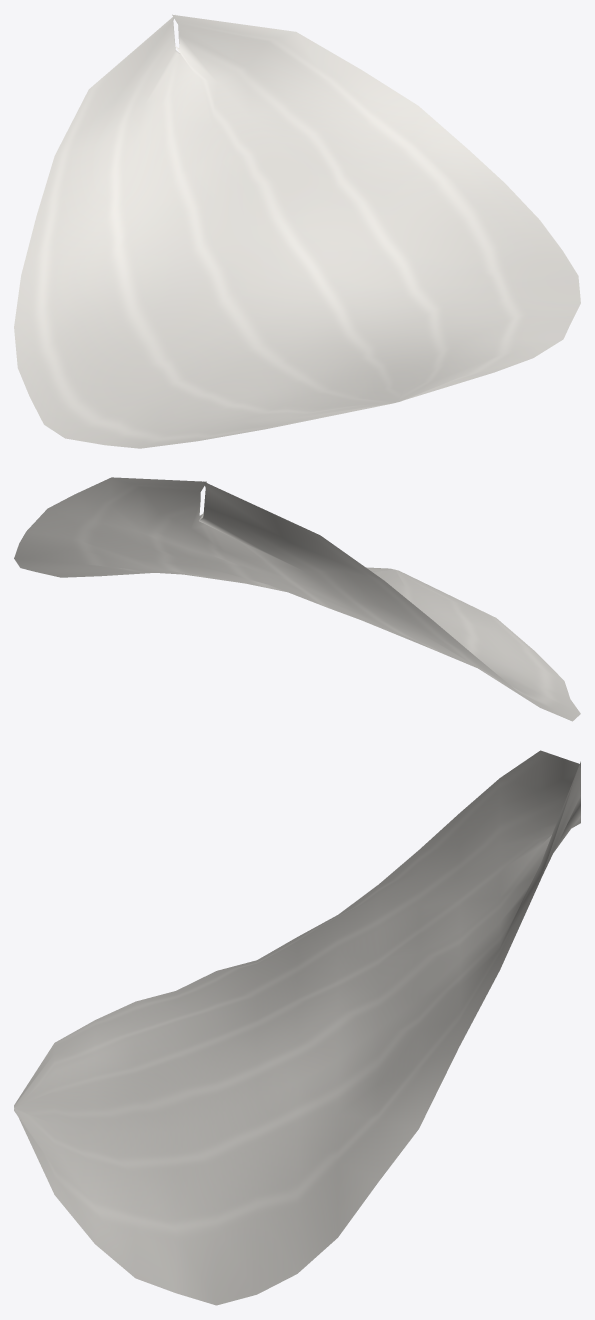
Rendered from petal_01_small.glb.
The picture shows the model from 3 angles, top to bottom: view 1: azimuth 30°, elevation 25°; view 2: azimuth 150°, elevation 25°; view 3: azimuth 270°, elevation 25°; orthographic projection. The views are drawn at different scales.
Parts seen in each view (by area): view 1: petal_01_small; view 2: petal_01_small; view 3: petal_01_small.
Boxes of the visible parts, x1,y1,x2,y2 form: petal_01_small: (14, 14, 580, 448); petal_01_small: (14, 477, 580, 721); petal_01_small: (14, 750, 580, 1305).
Size of the model in its own units: 0.0772 by 0.0374 by 0.0514.
1 material, 1 textured.
